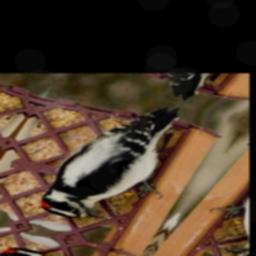Woodpecker: (30, 93, 222, 235)
